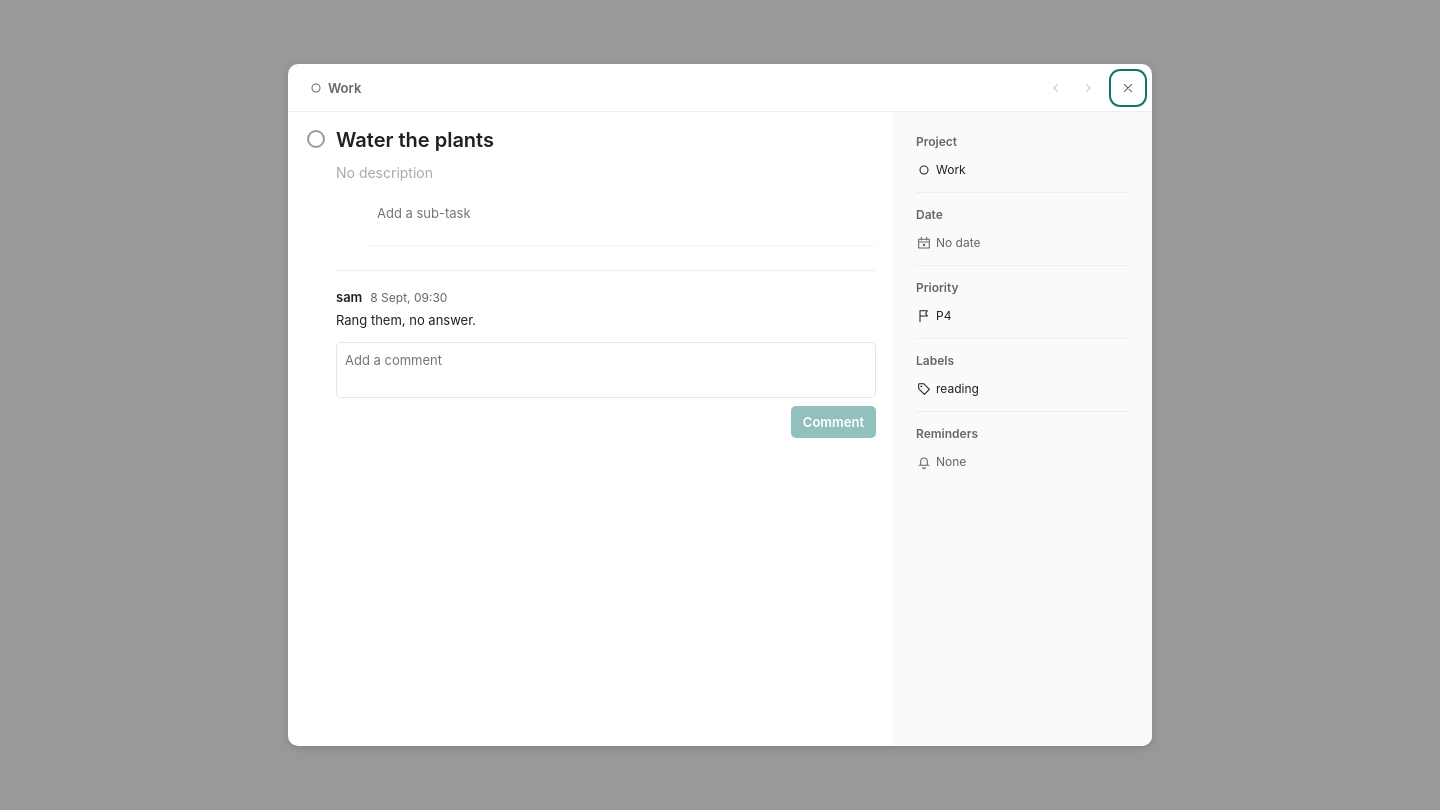
Test: the label picker › does not offer a label the task already carries
Click the button with aria-label "Labels: change".
click(1018, 389)  # box [912,375,1124,403]
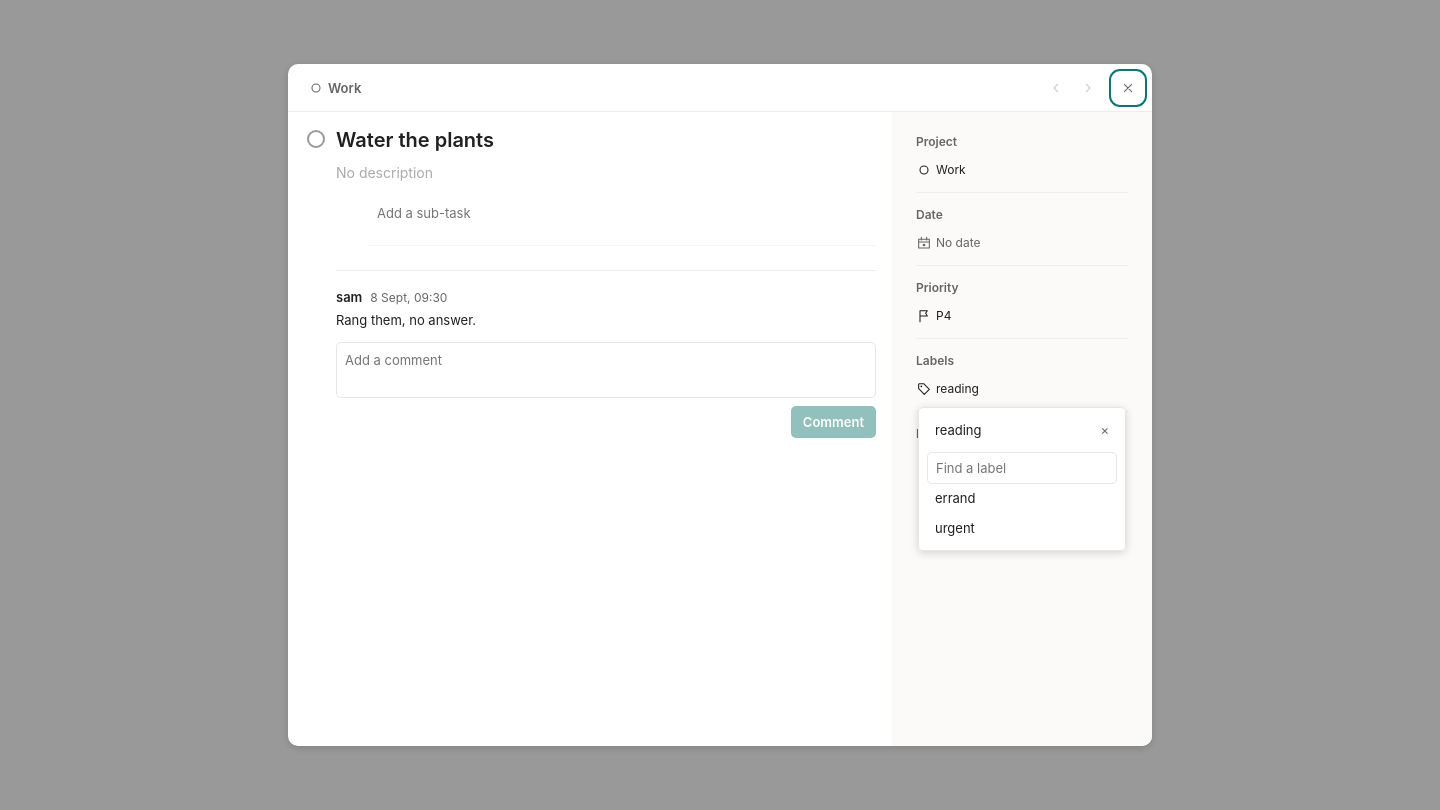
Expected: the button with aria-label "Add the label urgent" is shown, [927,514,1117,542]
